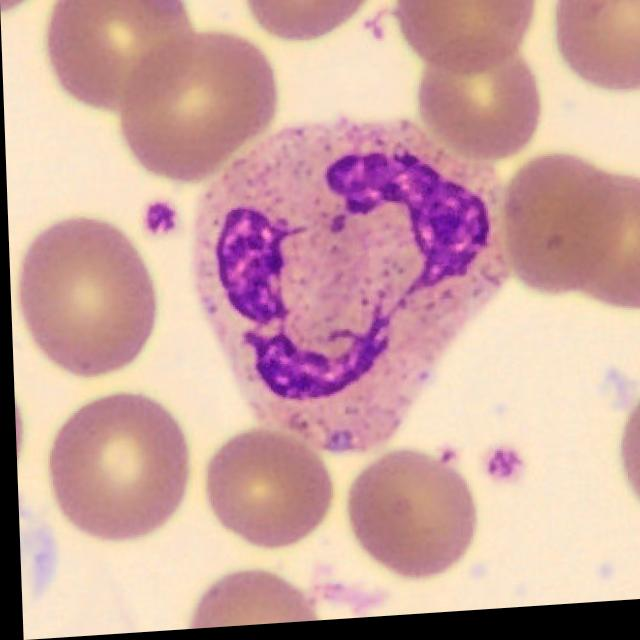Neutrofilo segmentado: (188, 120, 506, 457)
